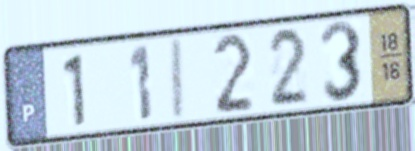1: (128, 41, 156, 122), (60, 50, 88, 129)
2: (210, 30, 260, 119), (266, 24, 311, 110)
3: (318, 17, 365, 105)
I: (168, 33, 189, 126)
